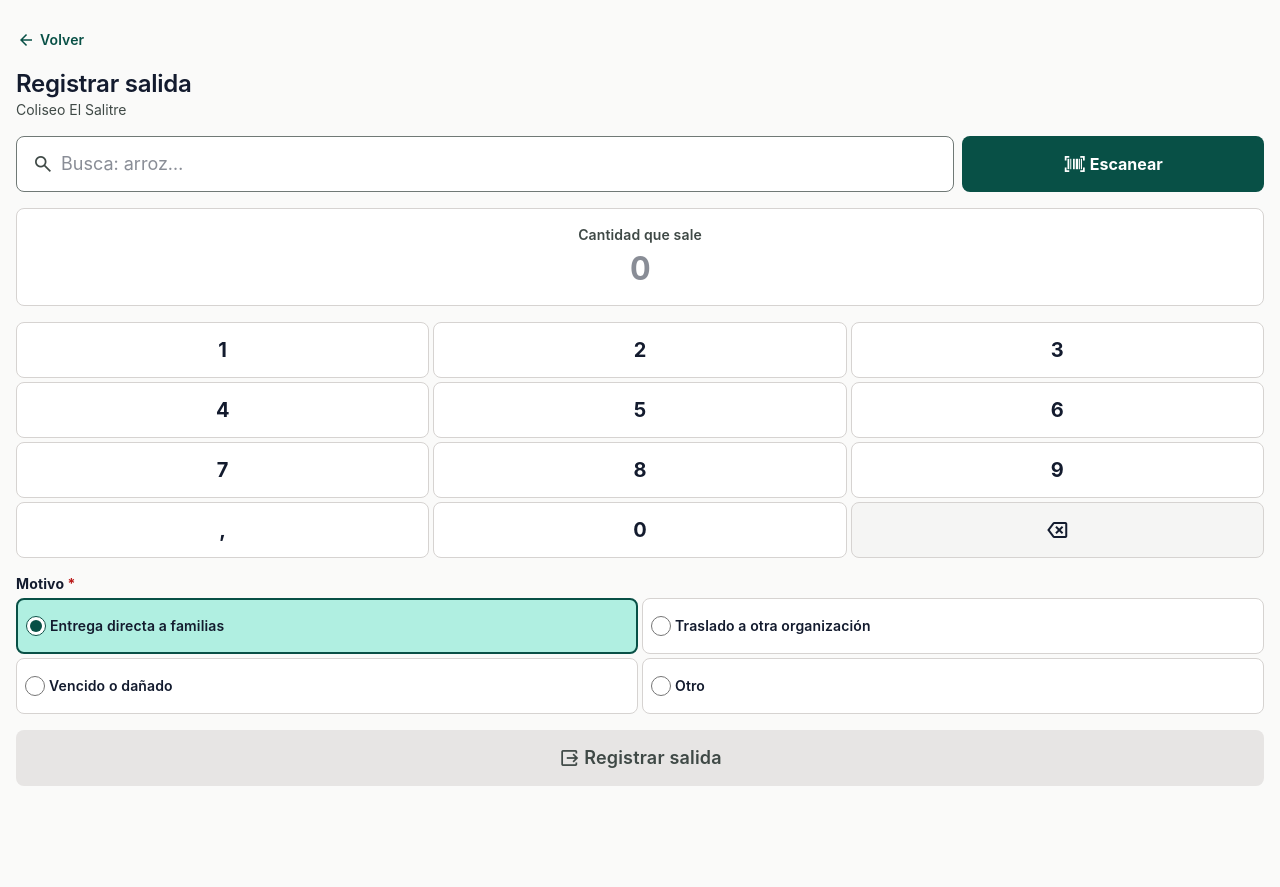
Scenario: C5 Salida › sin fechas de vencimiento no muestra «Sale primero»
The image size is (1280, 887).
Type "panal" into the search field named "Categoría". click: [485, 164]
box: [16, 136, 954, 192]
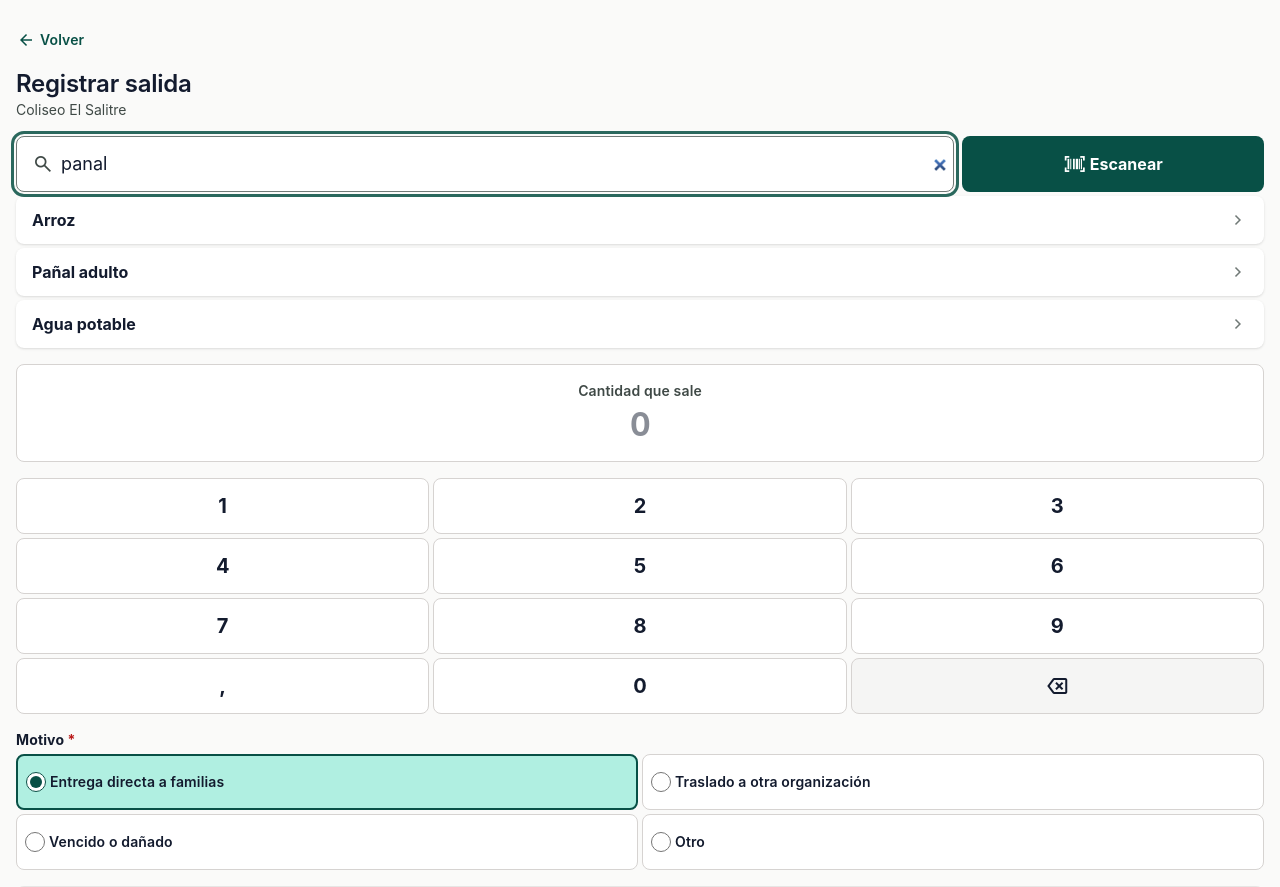
Click the button "Pañal adulto". click: [80, 272]
box: [16, 248, 1264, 296]
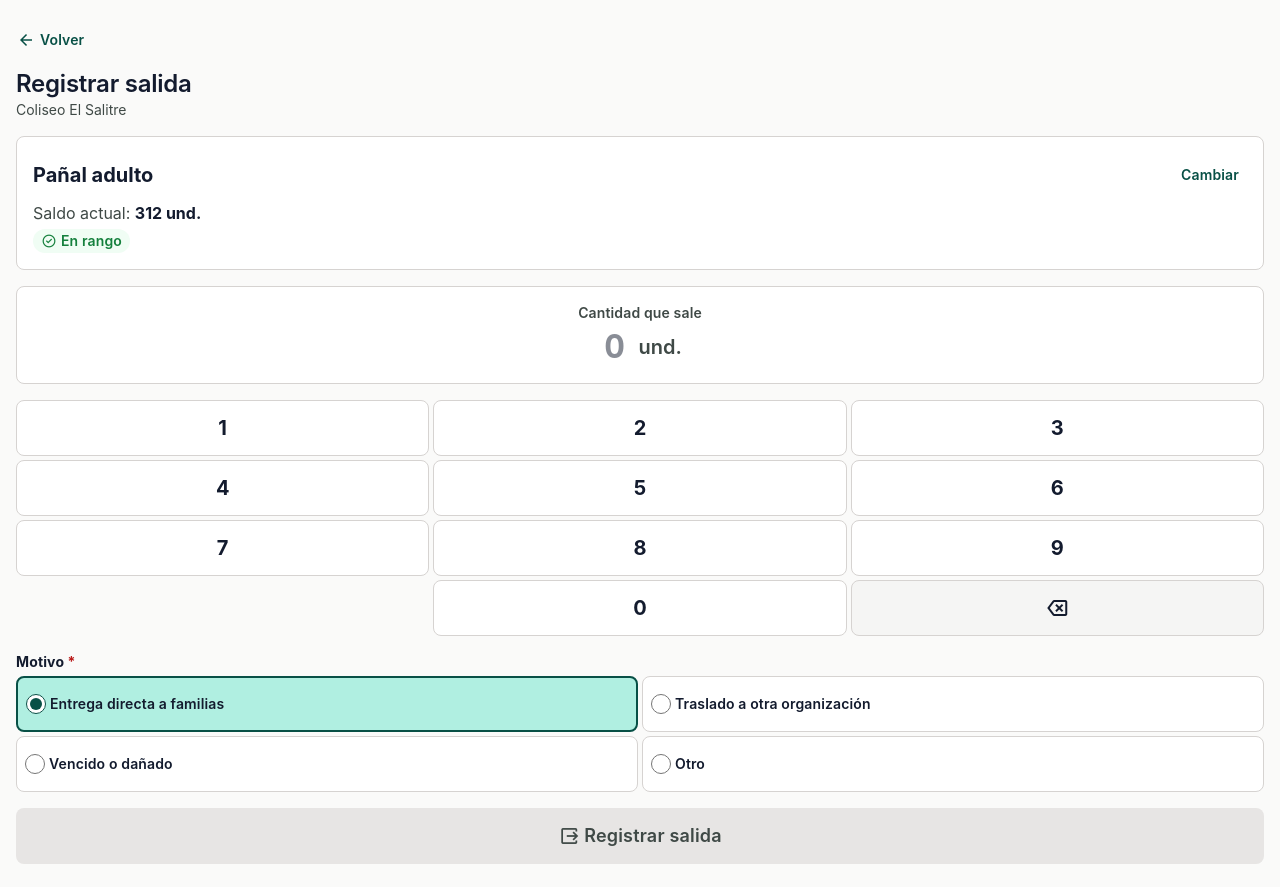
Now the element named "Categoría elegida" is shown, box [16, 136, 1264, 270]
